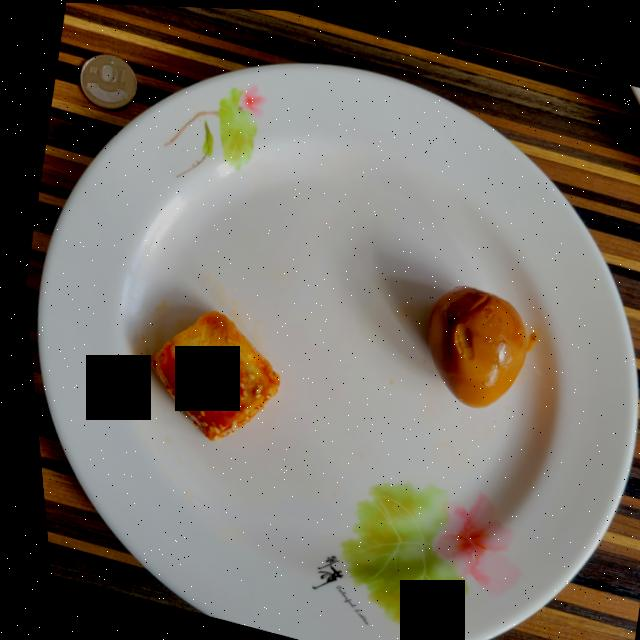coin: (78, 53, 135, 108)
creamy tofu: (144, 309, 272, 439)
soy egg: (421, 282, 521, 404)
